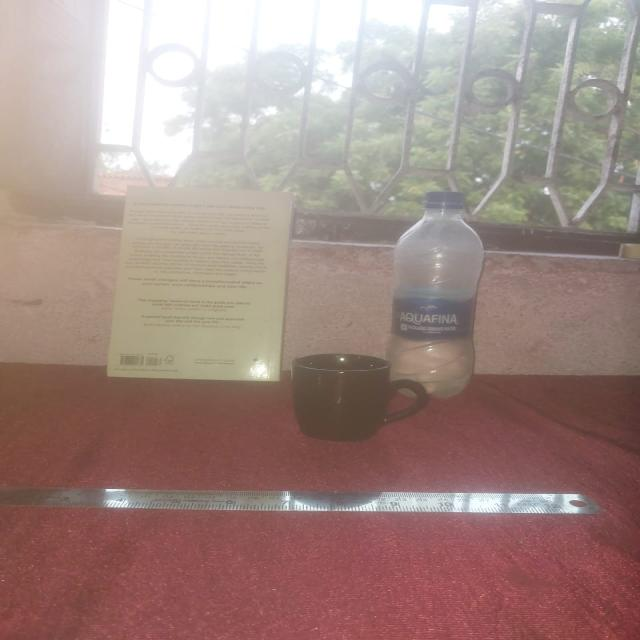Book: (107, 184, 293, 387)
Bottle: (378, 182, 500, 399)
Cup: (288, 353, 428, 445)
scale: (0, 476, 607, 518)
